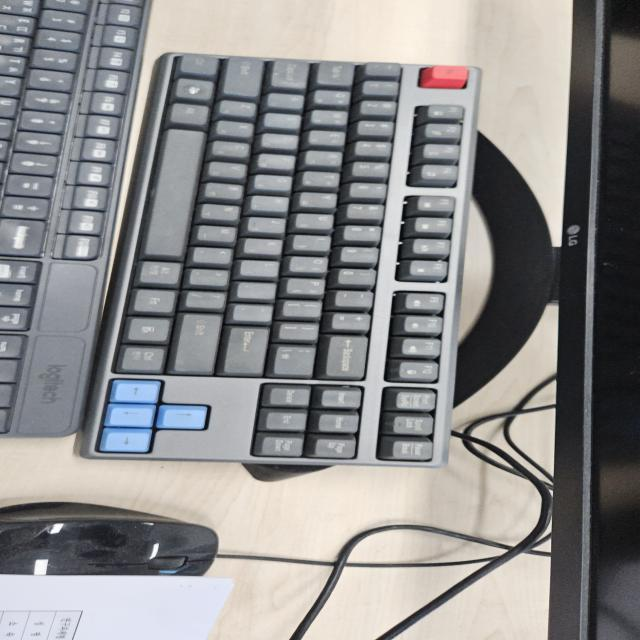Keyboard: (75, 50, 480, 468)
Mouse: (1, 499, 222, 577)
